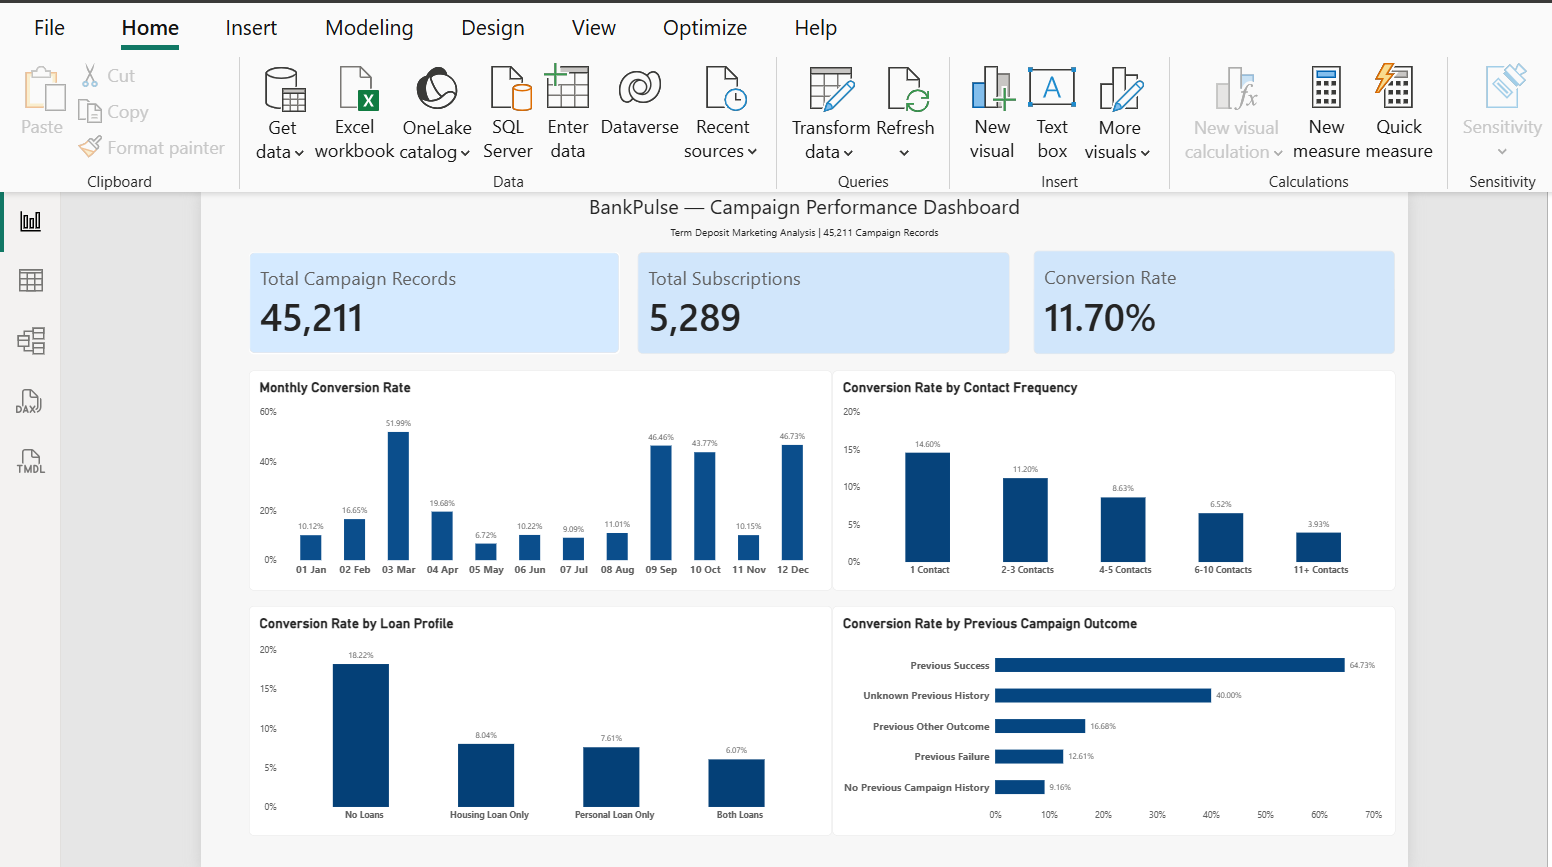

What the dashboard file says about the page in this screenshot:
{"tool":"powerbi","page":{"name":"Campaign Overview","canvas":[1920,1080],"ordinal":0},"visuals":[{"type":"cardVisual","fields":{"Data":["Bank Marketing.Total Campaign Records"]},"box":[77.5,95,590,162.5],"z":0},{"type":"cardVisual","fields":{"Data":["Bank Marketing.Total Subscriptions"]},"box":[695,95,592.5,162.5],"z":1000},{"type":"cardVisual","fields":{"Data":["Bank Marketing.Conversion Rate"]},"box":[1325,92.5,575,165],"z":2000},{"type":"clusteredColumnChart","title":"Conversion Rate by Contact Frequency","fields":{"Category":["Bank Marketing.Contact Frequency"],"Y":["Bank Marketing.Conversion Rate"]},"box":[1005,285,895,350],"z":3000},{"type":"clusteredColumnChart","title":"Monthly Conversion Rate","fields":{"Category":["Bank Marketing.Month Label"],"Y":["Bank Marketing.Conversion Rate"]},"box":[77.5,285,927.5,350],"z":4000},{"type":"clusteredColumnChart","title":"Conversion Rate by Loan Profile","fields":{"Category":["Bank Marketing.Loan Profile"],"Y":["Bank Marketing.Conversion Rate"]},"box":[77.5,657.5,927.5,365],"z":5000},{"type":"clusteredBarChart","title":"Conversion Rate by Previous Campaign Outcome","fields":{"Category":["Bank Marketing.Previous Campaign History"],"Y":["Bank Marketing.Conversion Rate"]},"box":[1005,657.5,895,365],"z":6000},{"type":"textbox","box":[0,0,1920,52.5],"z":7000},{"type":"textbox","box":[0,52.5,1920,40],"z":8000}]}

Visuals, with their boxes on the page's 1920x1080 design canvas (x1, y1, x2, y2). These are canvas units, not pixel positions in the 1552x867 screenshot, which may show the page scaled, cropped or inside an application window:
cardVisual - Bank Marketing.Total Campaign Records: {"left": 78, "top": 95, "right": 668, "bottom": 258}
cardVisual - Bank Marketing.Total Subscriptions: {"left": 695, "top": 95, "right": 1288, "bottom": 258}
cardVisual - Bank Marketing.Conversion Rate: {"left": 1325, "top": 92, "right": 1900, "bottom": 258}
"Conversion Rate by Contact Frequency" clusteredColumnChart: {"left": 1005, "top": 285, "right": 1900, "bottom": 635}
"Monthly Conversion Rate" clusteredColumnChart: {"left": 78, "top": 285, "right": 1005, "bottom": 635}
"Conversion Rate by Loan Profile" clusteredColumnChart: {"left": 78, "top": 658, "right": 1005, "bottom": 1022}
"Conversion Rate by Previous Campaign Outcome" clusteredBarChart: {"left": 1005, "top": 658, "right": 1900, "bottom": 1022}
textbox: {"left": 0, "top": 0, "right": 1920, "bottom": 52}
textbox: {"left": 0, "top": 52, "right": 1920, "bottom": 92}
